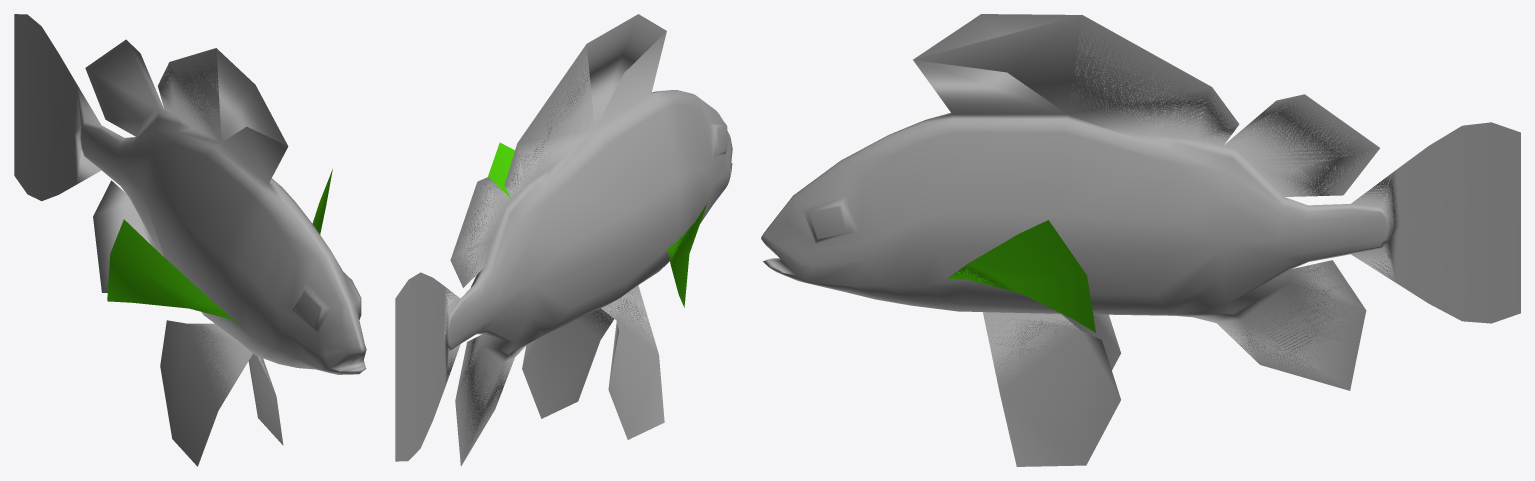
Rendered from Holocentridae_A_S.fbx.
3 renders of one model, left to right at view 1: azimuth 30°, elevation 25°; view 2: azimuth 150°, elevation 25°; view 3: azimuth 270°, elevation 25°, orthographic. The views are drawn at different scales.
Visible parts, largest first — view 1: Holocentridae_A_S_Mesh; view 2: Holocentridae_A_S_Mesh; view 3: Holocentridae_A_S_Mesh.
Part boxes in pixels (box(x1,y1,x2,y2)): Holocentridae_A_S_Mesh: box(14, 14, 366, 466); Holocentridae_A_S_Mesh: box(395, 14, 732, 466); Holocentridae_A_S_Mesh: box(761, 14, 1520, 466).
Size of the model in its own units: 0.00356 by 0.00615 by 0.00983.
